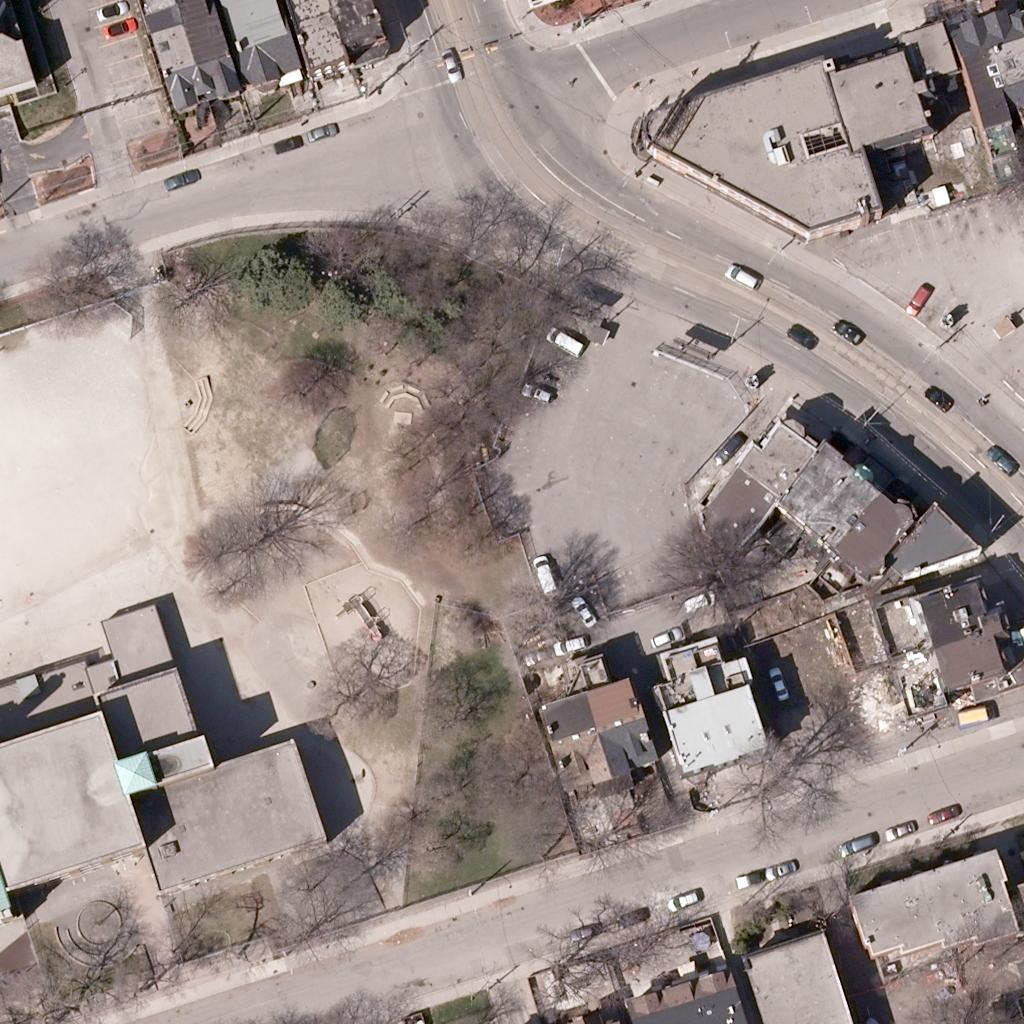car: (106, 9, 140, 43), (433, 45, 467, 79), (302, 114, 336, 148), (266, 127, 300, 161), (163, 160, 197, 194), (722, 258, 756, 292), (898, 282, 932, 316), (831, 313, 865, 347), (543, 319, 577, 353), (784, 319, 818, 353), (521, 375, 555, 409), (919, 378, 953, 412), (711, 431, 745, 465), (983, 441, 1017, 475), (526, 554, 560, 588), (683, 583, 717, 617), (567, 595, 601, 629), (647, 621, 681, 655), (551, 628, 585, 662), (522, 637, 556, 671), (761, 668, 795, 702), (927, 797, 961, 831), (883, 812, 917, 846), (841, 826, 875, 860), (765, 852, 799, 886), (733, 861, 767, 895), (666, 883, 700, 917), (615, 898, 649, 932), (564, 913, 598, 947), (96, 0, 130, 26)
